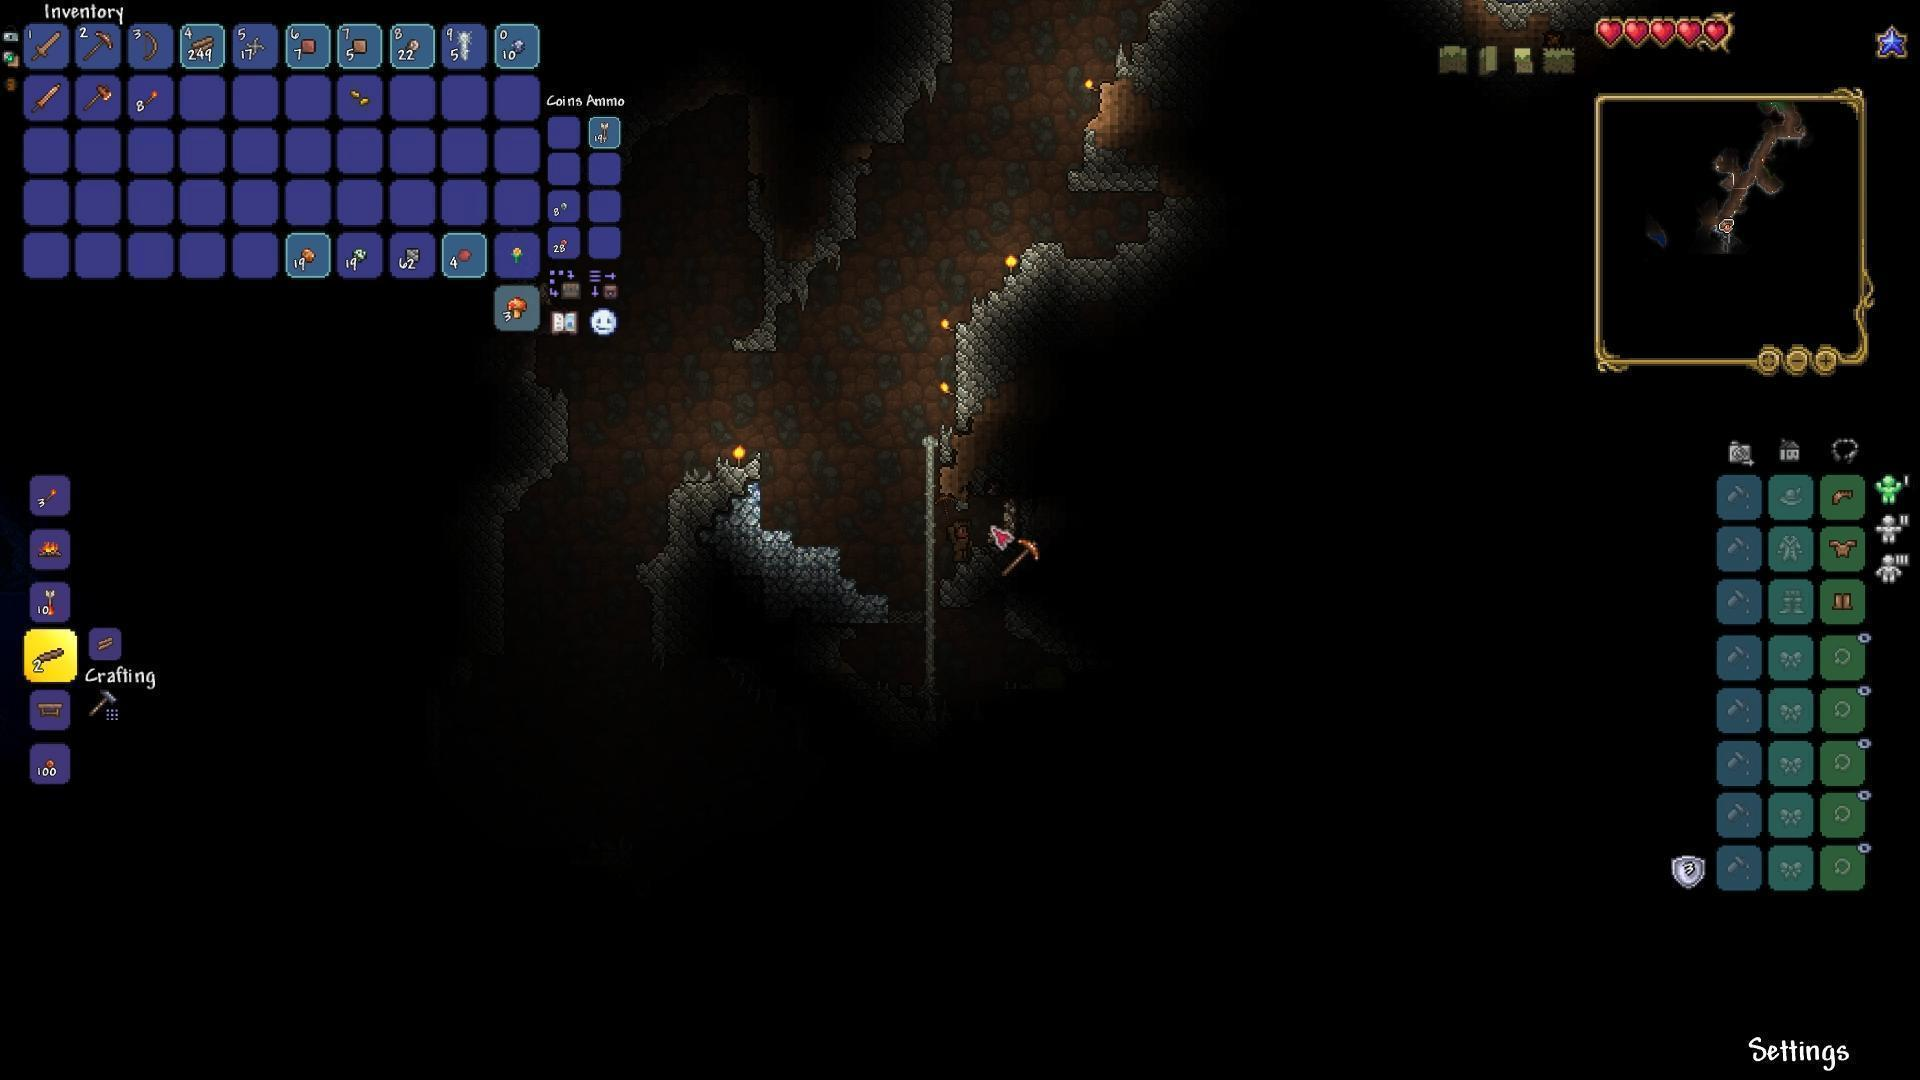arrow: (44, 587, 58, 616), (596, 120, 613, 141)
bow: (141, 29, 161, 62)
breastplate: (1829, 535, 1859, 559)
gel: (454, 247, 473, 266)
helmet: (1829, 488, 1854, 506)
legs: (1830, 589, 1855, 615)
pickaxe: (80, 28, 115, 62)
rope: (456, 26, 473, 59)
shuriken: (245, 34, 264, 55)
sword: (30, 80, 63, 117), (30, 30, 62, 65)
wood: (190, 33, 216, 54), (98, 637, 116, 651)
